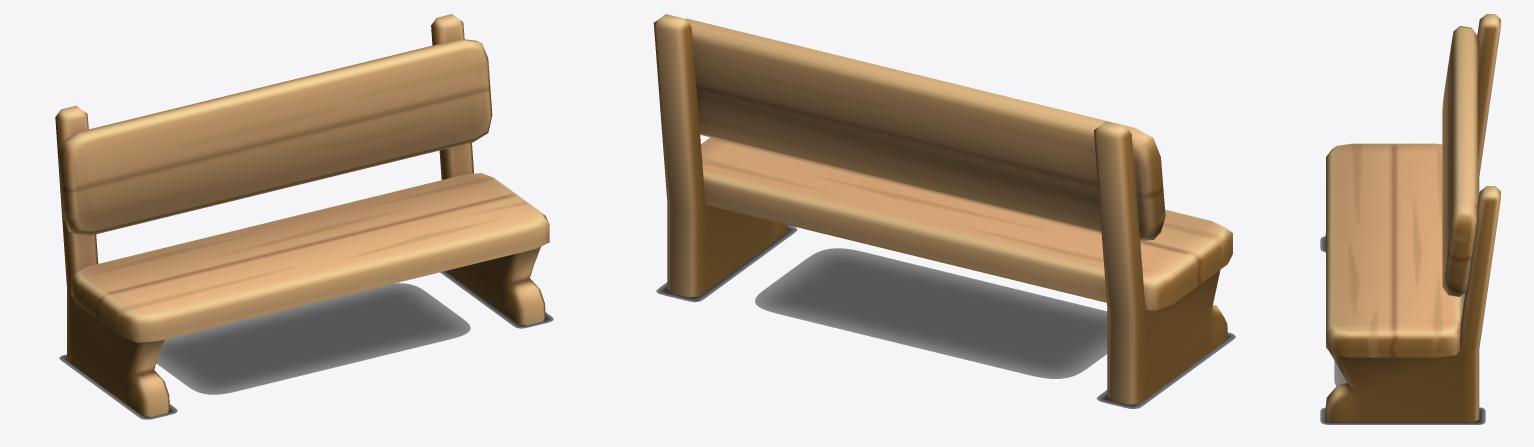
The model's file is Mesh_Item_01_ParkBench.FBX.
The picture shows the model from 3 angles, left to right: view 1: azimuth 30°, elevation 25°; view 2: azimuth 150°, elevation 25°; view 3: azimuth 270°, elevation 25°; orthographic projection. The views are drawn at different scales.
Visible parts, largest first — view 1: Mesh_Item_01_ParkBench, Mesh_Shadow_01_ParkBench; view 2: Mesh_Item_01_ParkBench, Mesh_Shadow_01_ParkBench; view 3: Mesh_Item_01_ParkBench, Mesh_Shadow_01_ParkBench.
Part boxes in pixels (x1,y1,x2,y2): Mesh_Item_01_ParkBench: (55, 14, 549, 416); Mesh_Shadow_01_ParkBench: (59, 271, 553, 419); Mesh_Item_01_ParkBench: (653, 14, 1232, 404); Mesh_Shadow_01_ParkBench: (656, 225, 1235, 408); Mesh_Item_01_ParkBench: (1325, 14, 1500, 422); Mesh_Shadow_01_ParkBench: (1320, 236, 1485, 424).
Bounding box in the file's own units: 2.01 × 1.03 × 0.8735.
2 materials, 2 textured.
